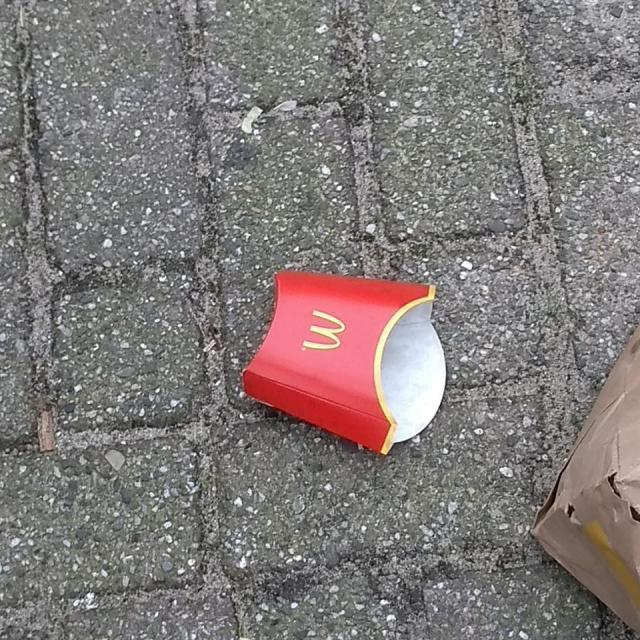Paper: (240, 268, 448, 456), (528, 321, 640, 640)
